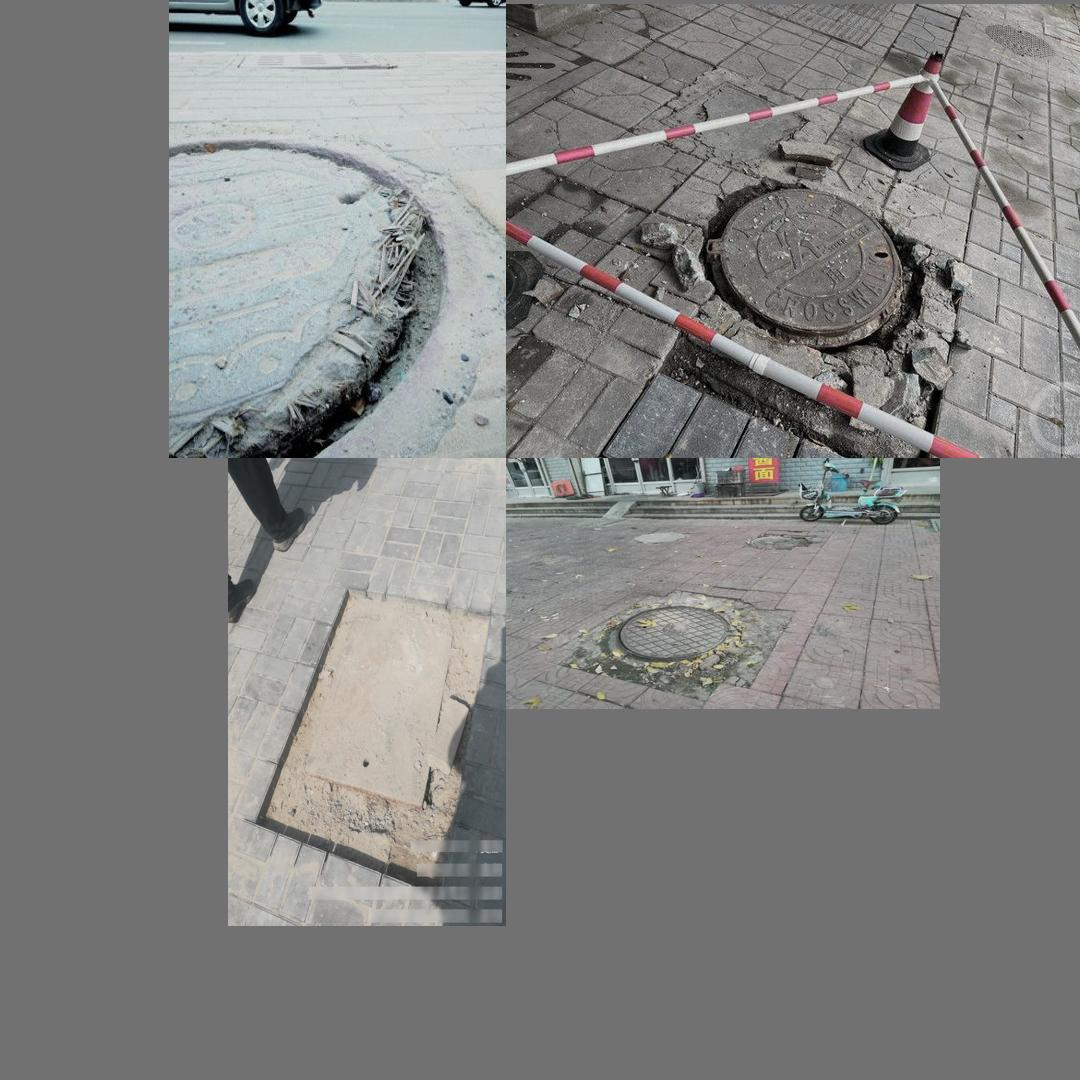circle: (174, 122, 486, 447), (656, 160, 953, 442), (258, 600, 490, 853), (576, 589, 784, 696)
